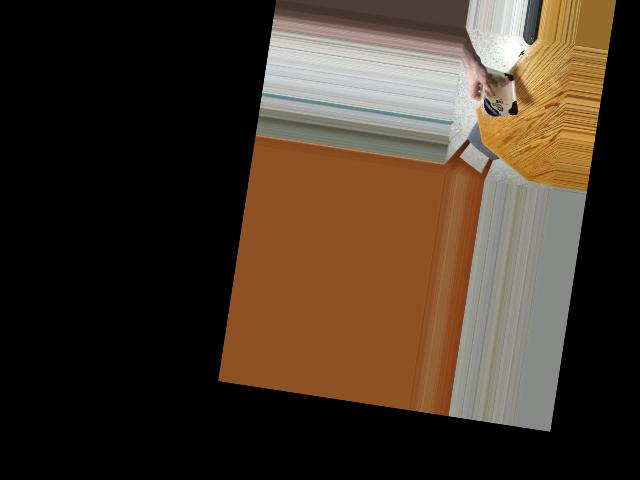cheese: (477, 61, 521, 122)
